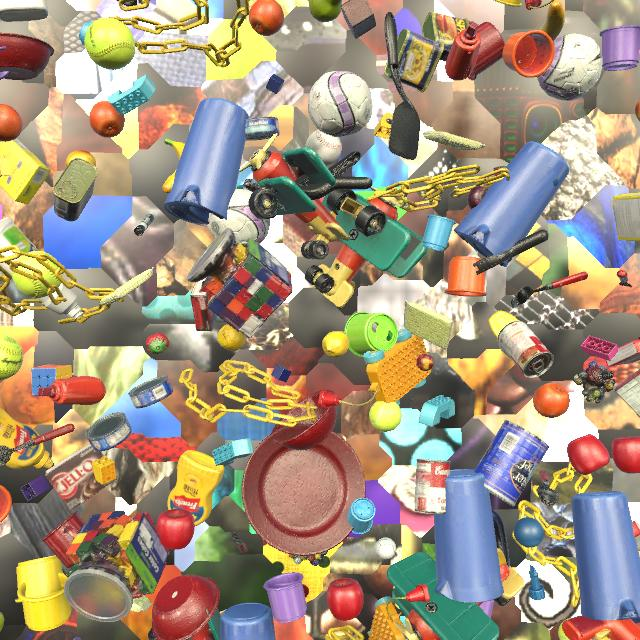ycb_002_master_chef_can: (474, 420, 550, 507)
ycb_004_sugar_box: (0, 138, 51, 205), (612, 193, 640, 241)
ycb_005_tomato_soup_can: (498, 321, 554, 378), (414, 459, 451, 514), (493, 165, 507, 177)
ycb_006_mustard_bottle: (168, 450, 224, 526), (0, 407, 53, 470), (488, 310, 519, 361), (595, 636, 610, 640)
ycb_007_tuna_fish_can: (85, 412, 132, 451), (128, 375, 173, 408), (245, 116, 280, 141)
ycb_008_pudding_box: (45, 443, 118, 510), (190, 277, 217, 332), (615, 369, 640, 417)
ycb_009_gelatin_box: (605, 339, 640, 367), (632, 521, 640, 551)
ycb_010_potted_meat_can: (384, 29, 444, 92), (53, 158, 98, 221), (422, 12, 469, 61)
ycb_011_banana: (527, 0, 565, 55), (162, 139, 185, 193), (639, 551, 640, 556)
ycb_012_strawberry: (146, 333, 170, 354)
ycb_013_apple: (567, 434, 610, 475), (156, 509, 195, 550), (327, 578, 364, 621), (611, 436, 640, 473)
ycb_014_lemon: (322, 331, 350, 358), (217, 324, 245, 351)
ycb_015_peach: (65, 150, 96, 167), (635, 100, 640, 121)
ycb_016_pear: (309, 0, 342, 22), (0, 612, 4, 632)
ycb_017_orange: (89, 101, 125, 138), (533, 383, 570, 418), (249, 0, 284, 36), (0, 104, 23, 142)
ycb_018_plum: (467, 186, 488, 209)
